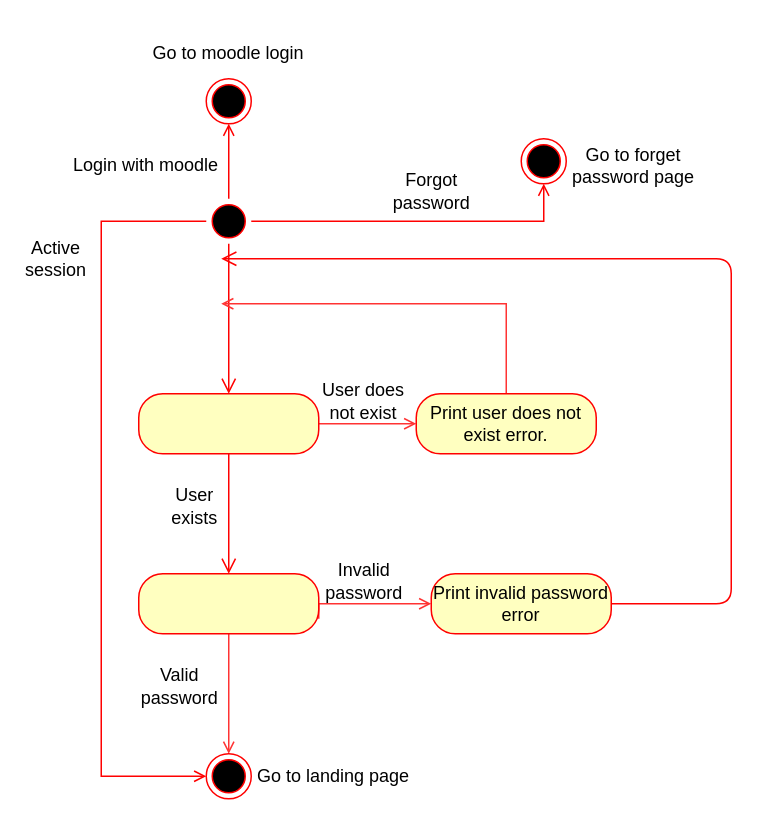
Image size: 773x828. Some labels were removed from this diagram. Each missing label, with the box of its shape:
Get user details: (137, 392, 319, 454)
Validate login: (137, 572, 319, 634)
